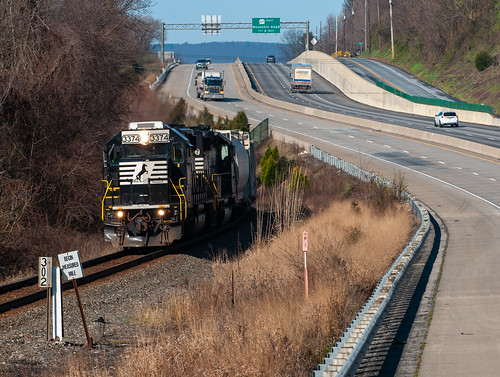road: (176, 65, 500, 377)
train: (88, 121, 265, 253)
truck: (192, 63, 230, 105), (289, 63, 315, 94)
vegetation: (1, 8, 131, 291)
